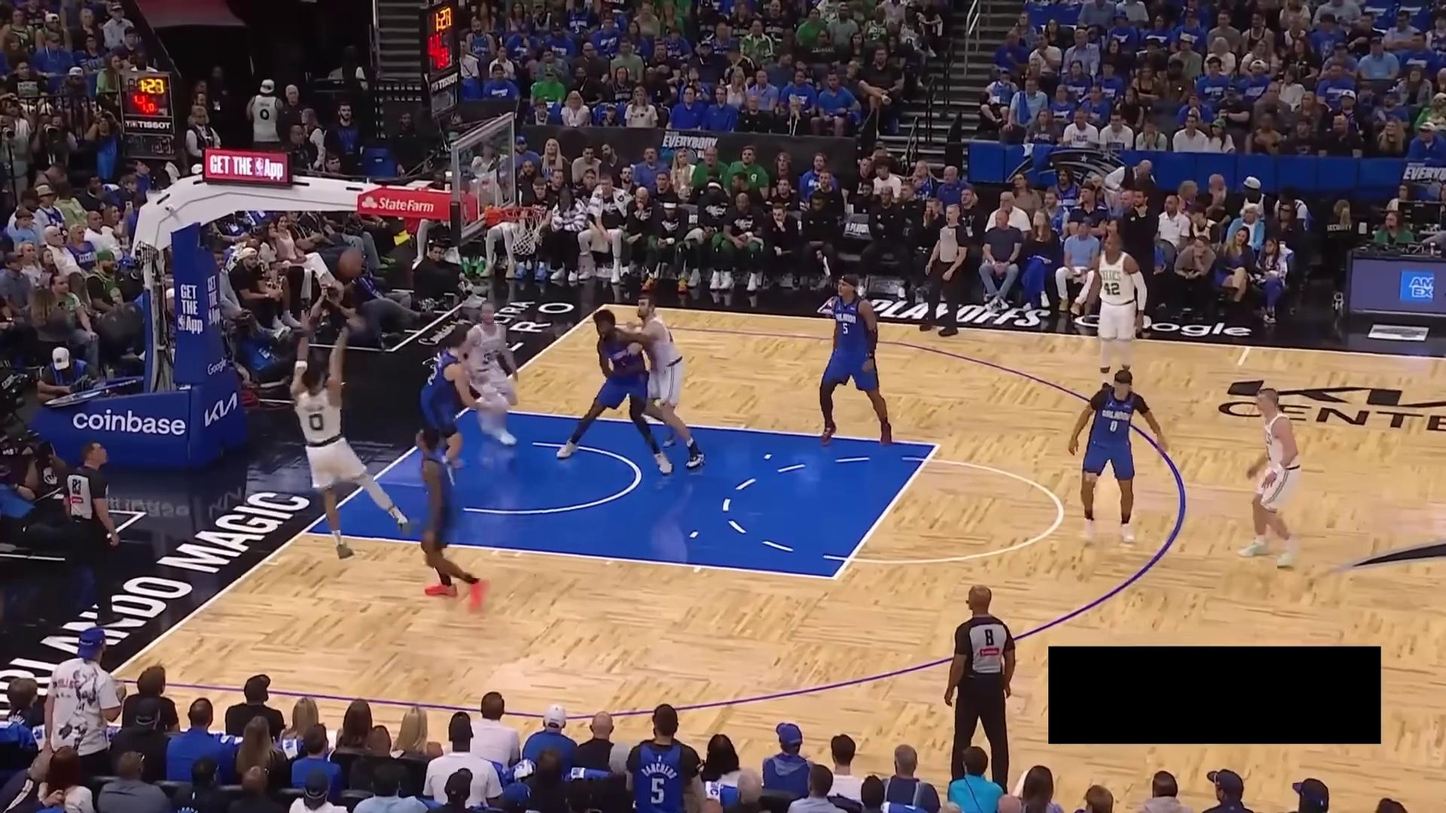ball: (337, 249, 363, 278)
number: (307, 409, 326, 434), (482, 348, 500, 366), (1103, 281, 1122, 296), (1109, 420, 1119, 433), (842, 321, 850, 335)
player: (556, 309, 673, 476), (1067, 369, 1169, 544), (624, 288, 706, 470), (416, 427, 491, 612), (819, 273, 893, 450), (1237, 383, 1306, 568), (1081, 227, 1149, 394), (458, 300, 520, 446), (417, 329, 482, 467)
player-jump-shot: (289, 310, 409, 560)
referee: (940, 583, 1017, 800), (53, 437, 127, 627), (917, 202, 972, 335)
rim: (501, 201, 549, 224)
